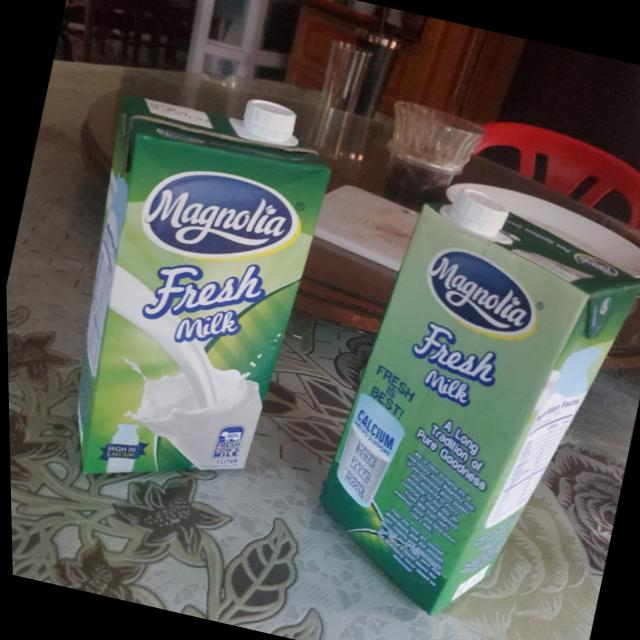milk: (285, 170, 640, 640), (37, 70, 345, 506)
